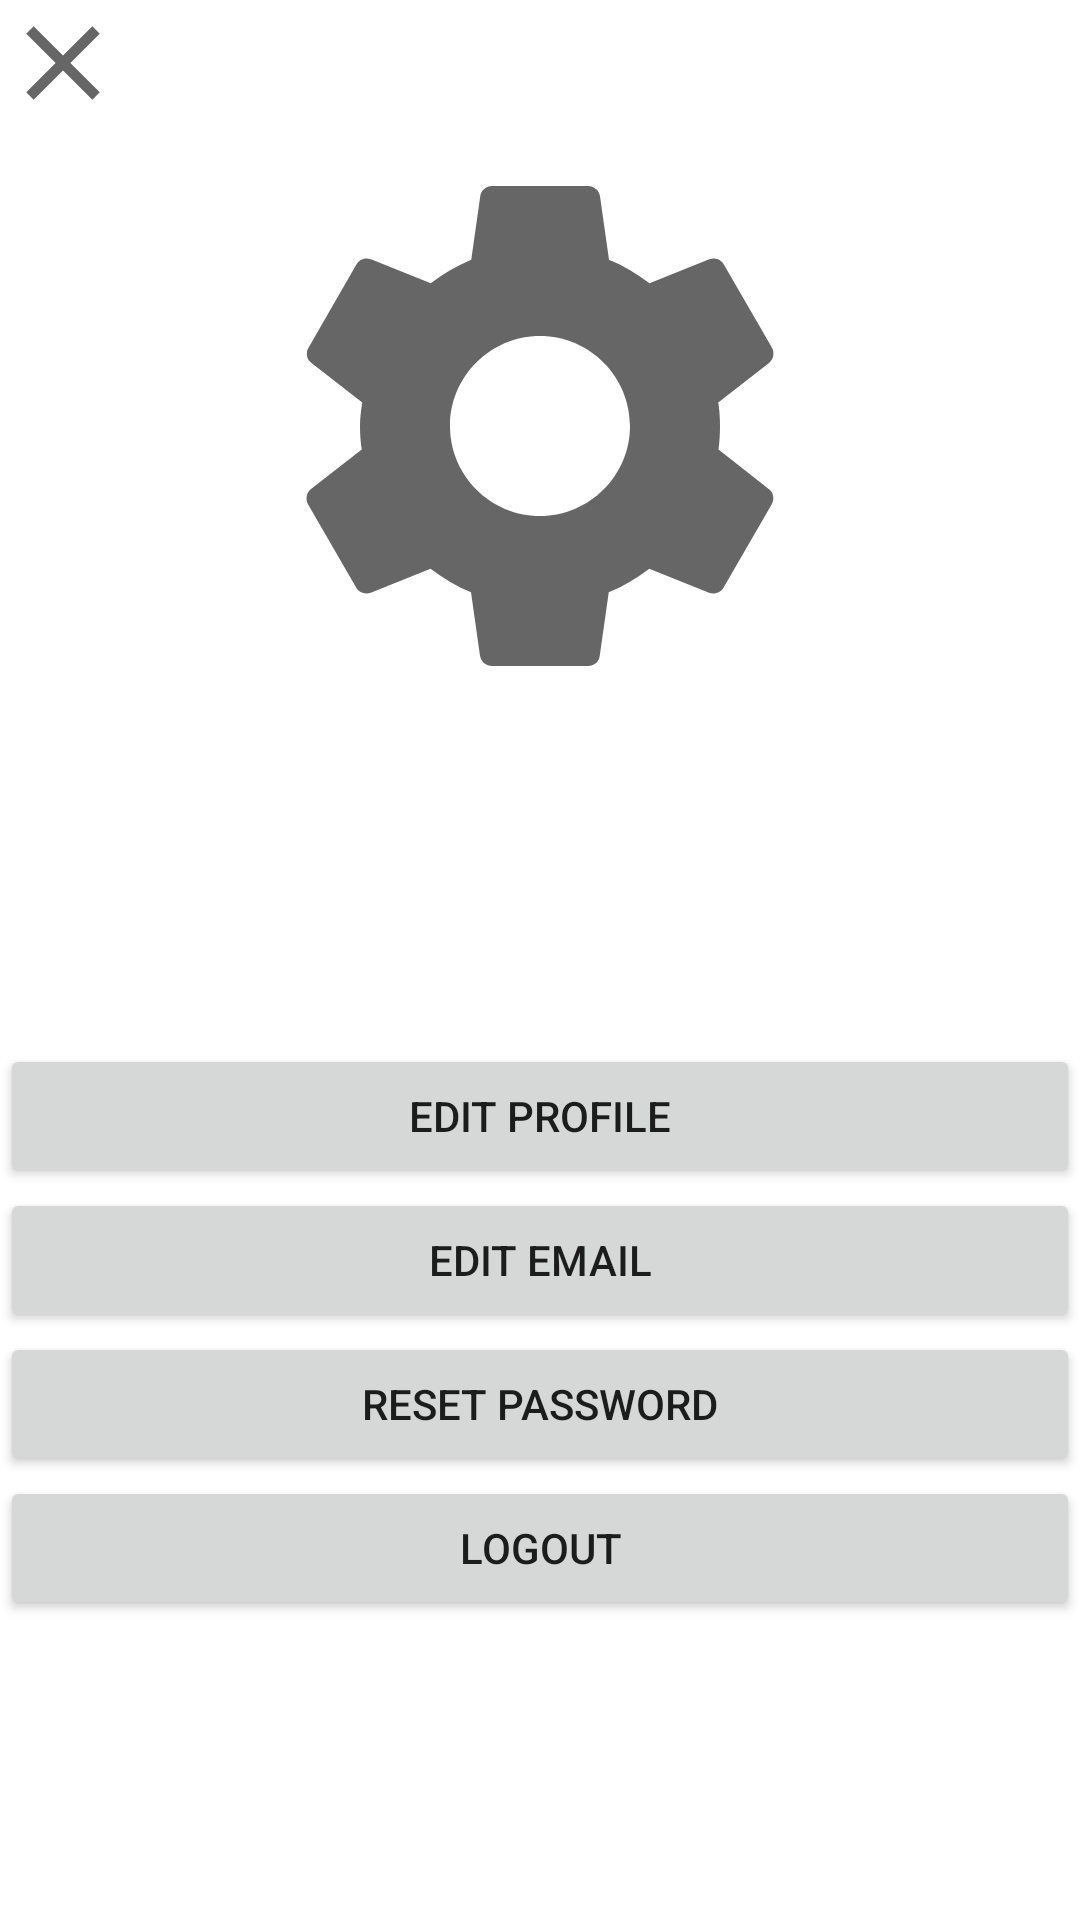

Point at icon controls on the screen. Image size 1080×1920, points as [x,y].
close: [63,63]
